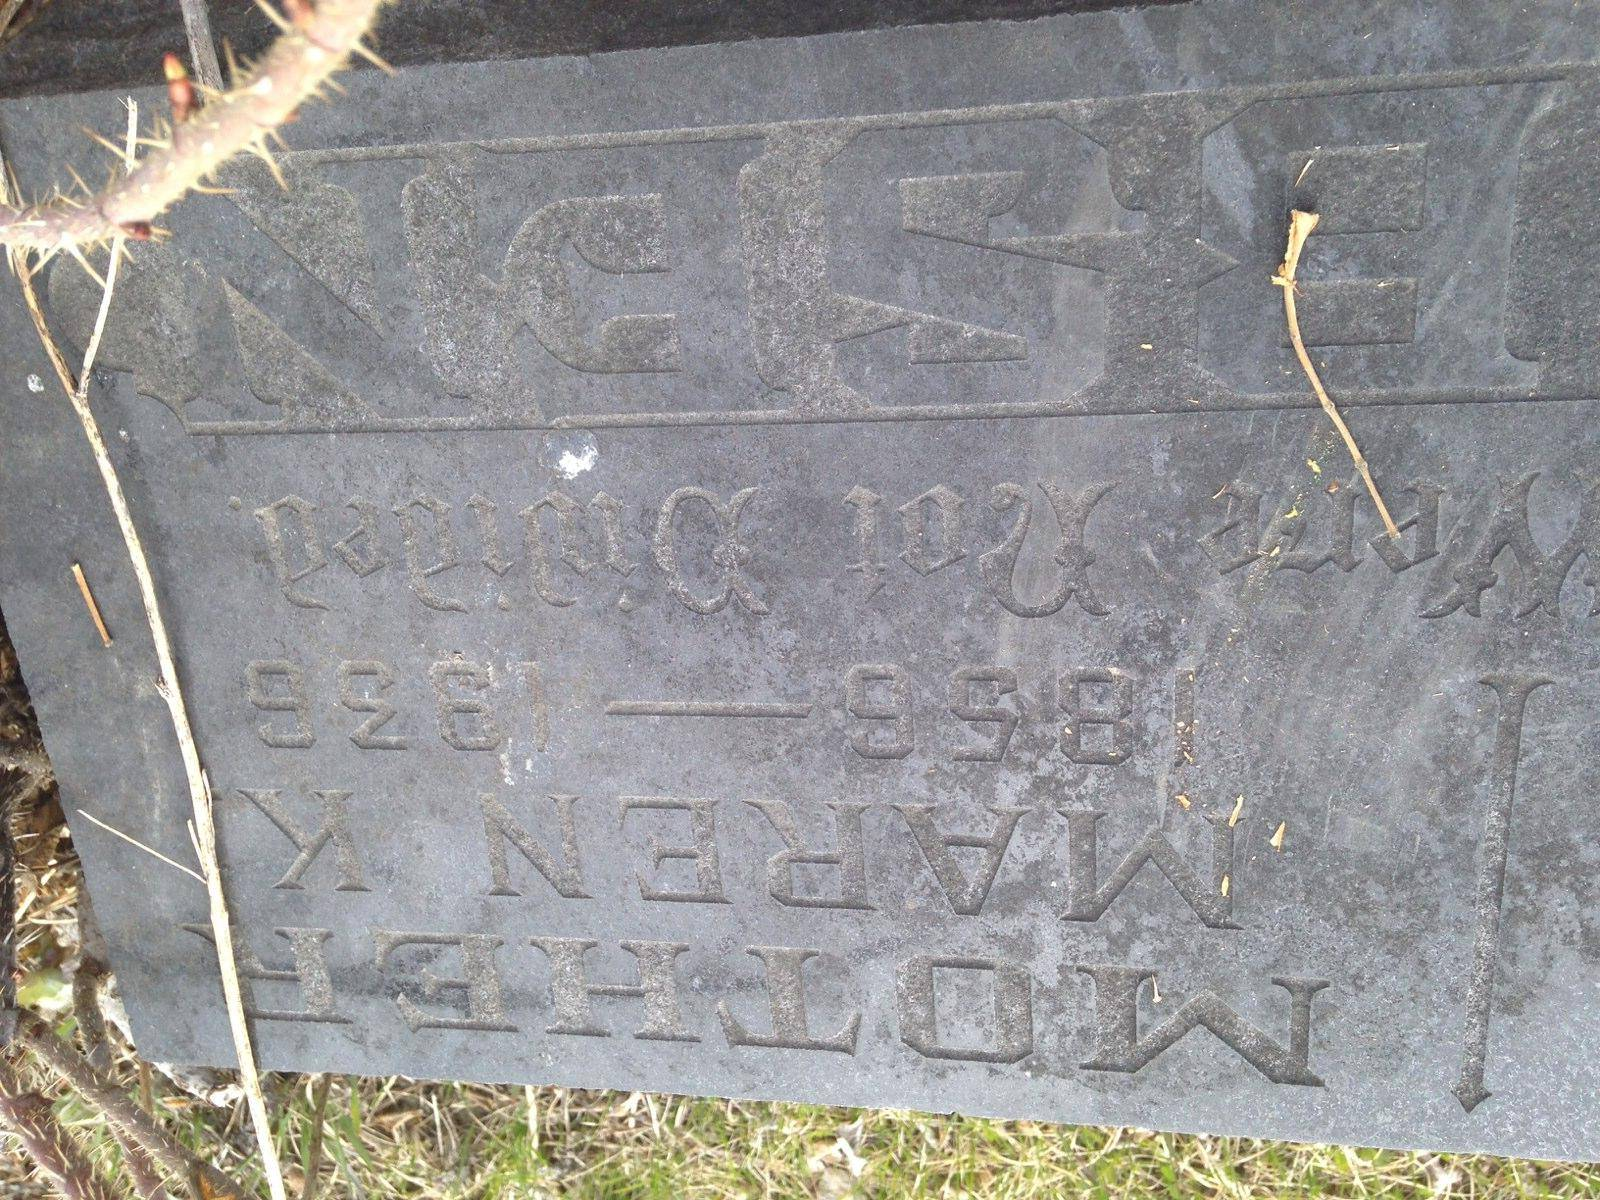flat: (0, 30, 1600, 1200)
